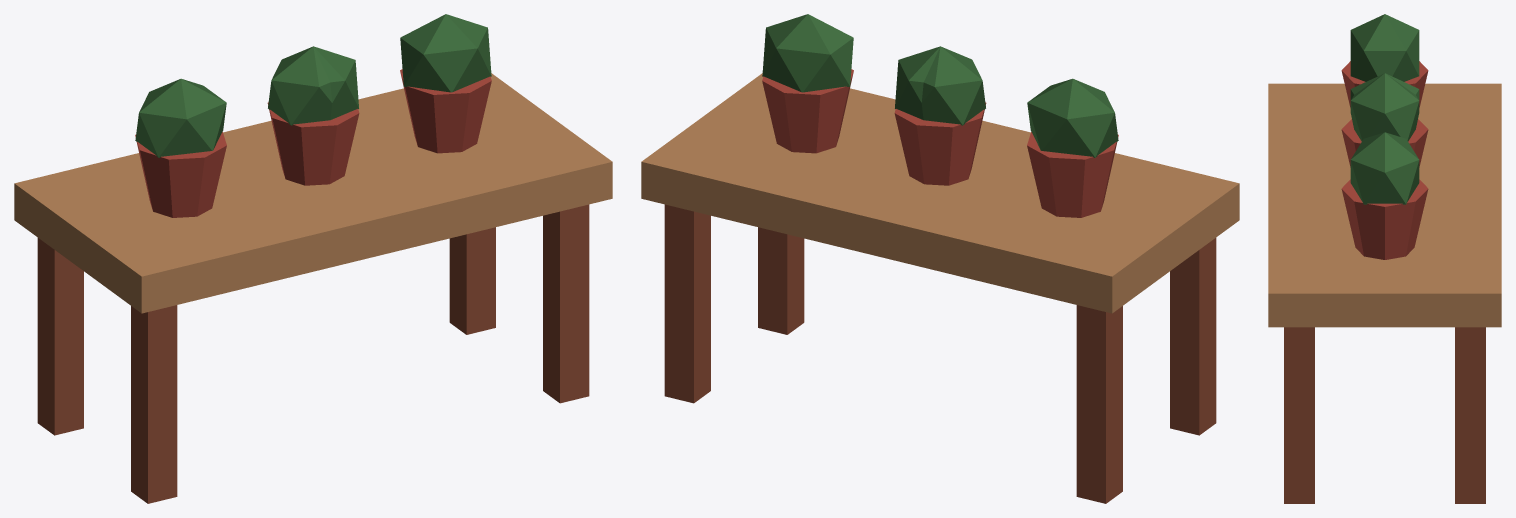
Rendered from Backyard_PottingBenchTunnel_Simple.glb.
3 views of the same model, side by side, from view 1: azimuth 30°, elevation 25°; view 2: azimuth 150°, elevation 25°; view 3: azimuth 270°, elevation 25° (orthographic). The views are drawn at different scales.
Parts seen in each view (by area): view 1: Backyard_PottingBenchTunnel_Simple; view 2: Backyard_PottingBenchTunnel_Simple; view 3: Backyard_PottingBenchTunnel_Simple.
Boxes of the visible parts, left/top/right/bottom form: Backyard_PottingBenchTunnel_Simple: left=14, top=14, right=612, bottom=503; Backyard_PottingBenchTunnel_Simple: left=641, top=14, right=1239, bottom=503; Backyard_PottingBenchTunnel_Simple: left=1268, top=14, right=1501, bottom=503.
Size of the model in its own units: 3.2 by 2.36 by 1.5.
